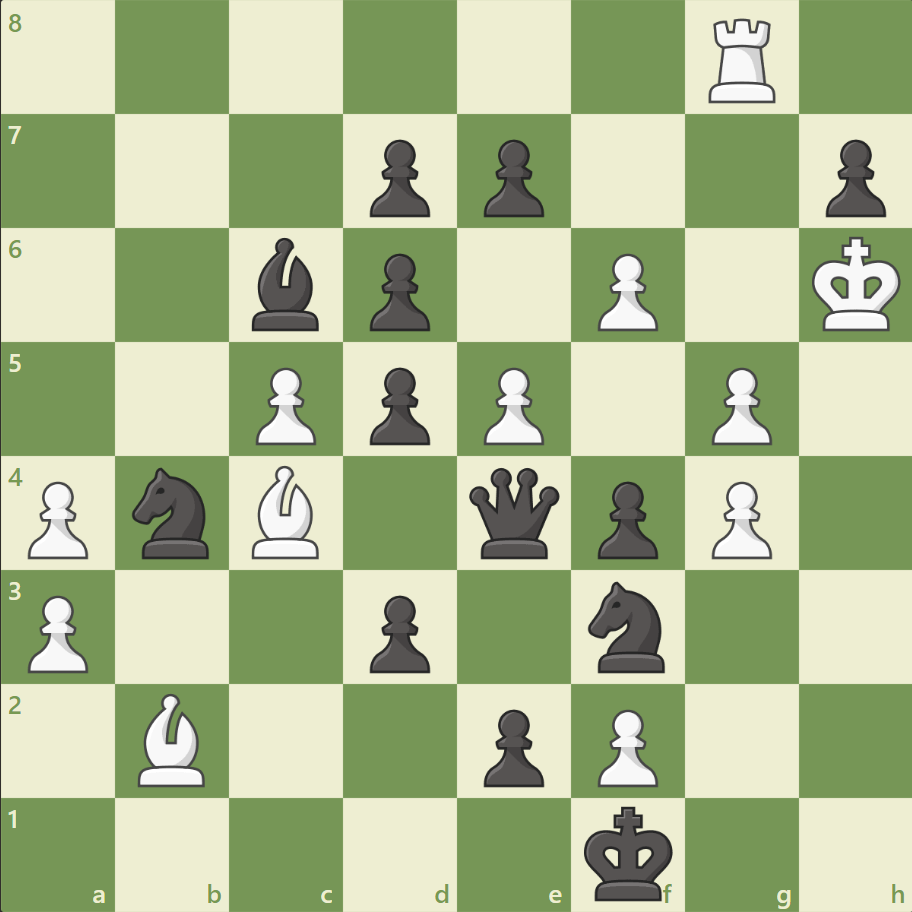B: (244, 460, 328, 563), (131, 687, 215, 790)
K: (806, 231, 906, 339)
P: (247, 359, 322, 450), (474, 359, 549, 450), (701, 359, 776, 450), (20, 473, 95, 564), (701, 473, 776, 564), (20, 586, 95, 677), (588, 246, 662, 337), (588, 700, 662, 791)
R: (700, 12, 783, 109)
b: (244, 233, 328, 336)
k: (579, 798, 679, 906)
n: (124, 461, 222, 564), (579, 575, 676, 677)
p: (474, 132, 549, 223), (474, 700, 549, 791), (361, 132, 435, 223), (815, 132, 889, 223), (361, 246, 435, 337), (361, 359, 435, 450), (588, 473, 662, 564), (361, 586, 435, 677)
q: (464, 463, 563, 562)
